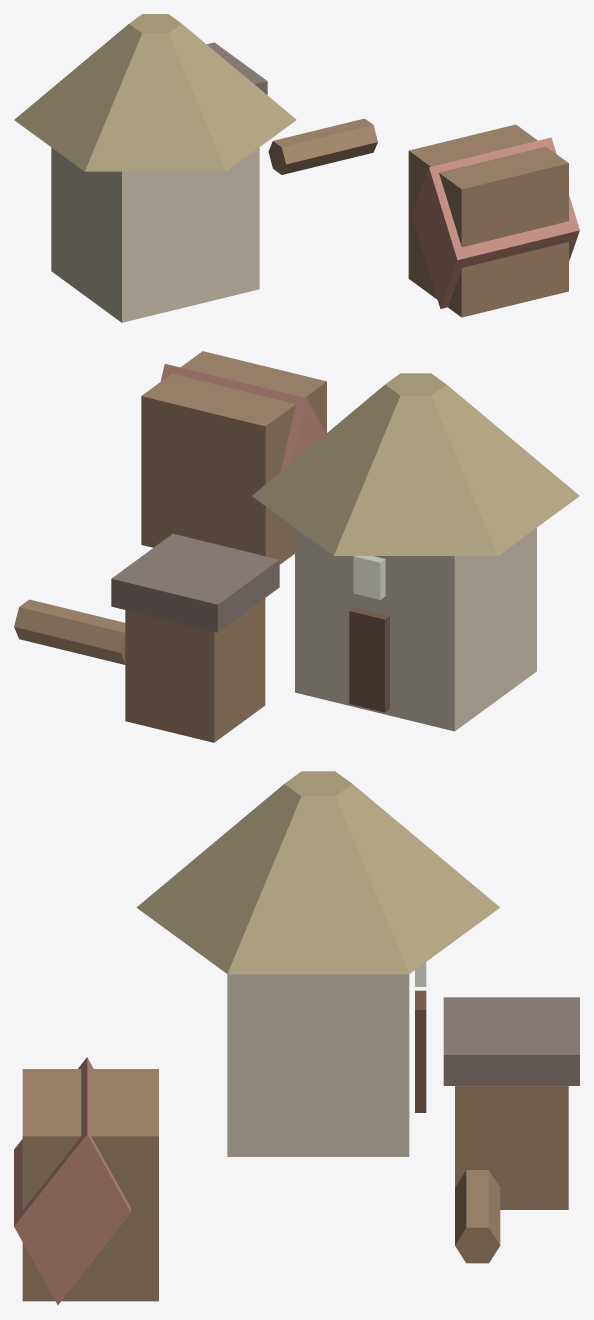
File: city-hamlet-0.glb
3 views of the same model, one above another, from view 1: azimuth 30°, elevation 25°; view 2: azimuth 150°, elevation 25°; view 3: azimuth 270°, elevation 25° (orthographic). The views are drawn at different scales.
Visible parts, largest first — view 1: city-hamlet-0; view 2: city-hamlet-0; view 3: city-hamlet-0.
Boxes of the visible parts, x1,y1,x2,y2 form: city-hamlet-0: [14, 14, 579, 322]; city-hamlet-0: [14, 351, 579, 742]; city-hamlet-0: [14, 771, 579, 1305].
Bounding box in the file's own units: 0.5386 × 0.32 × 0.4976.
